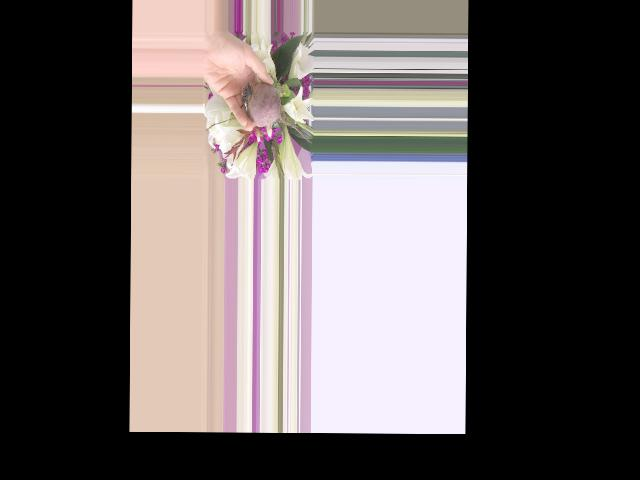beet: (241, 82, 311, 144)
